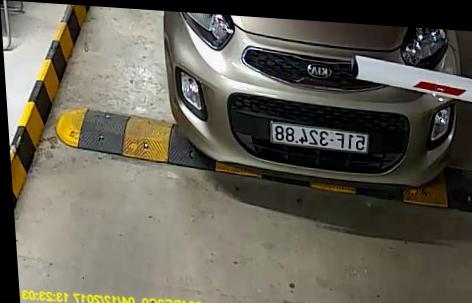License_Plate: (264, 120, 372, 156)
